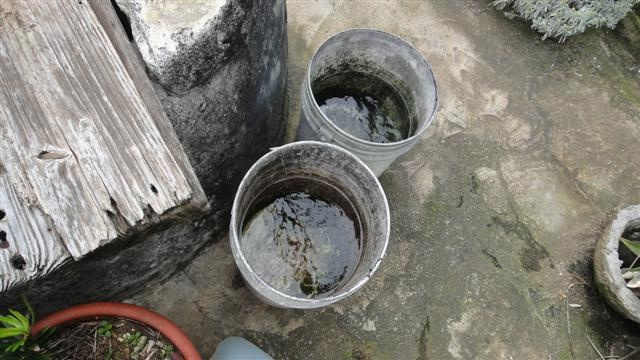bucket: (231, 140, 393, 314), (300, 28, 438, 182)
